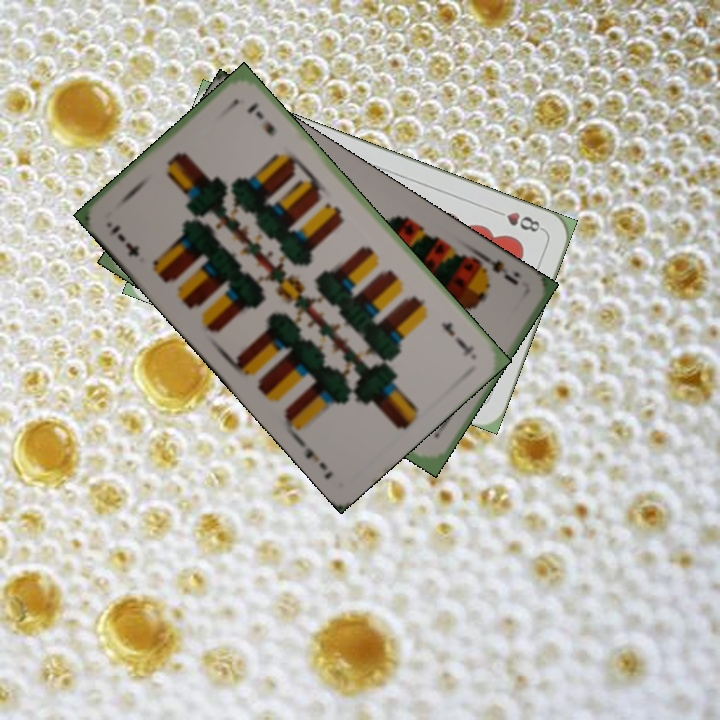E7: (437, 317, 477, 359), (106, 220, 142, 260)
H8: (489, 205, 546, 235)
S9: (473, 249, 521, 288)
